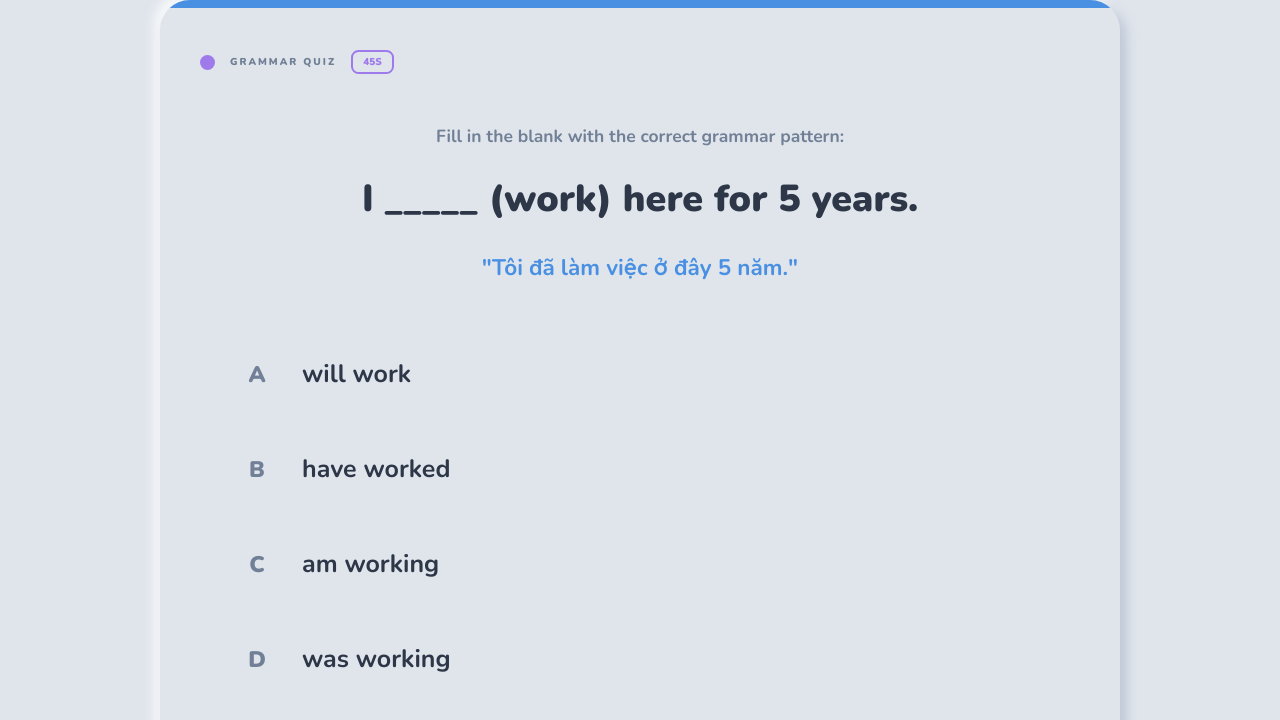
Test: GrammarQuizView › should enable check button after selecting option
This screenshot has width=1280, height=720.
Step 1. Click the text "have worked" → click(376, 470), box [302, 452, 450, 487]
(page scrolled)
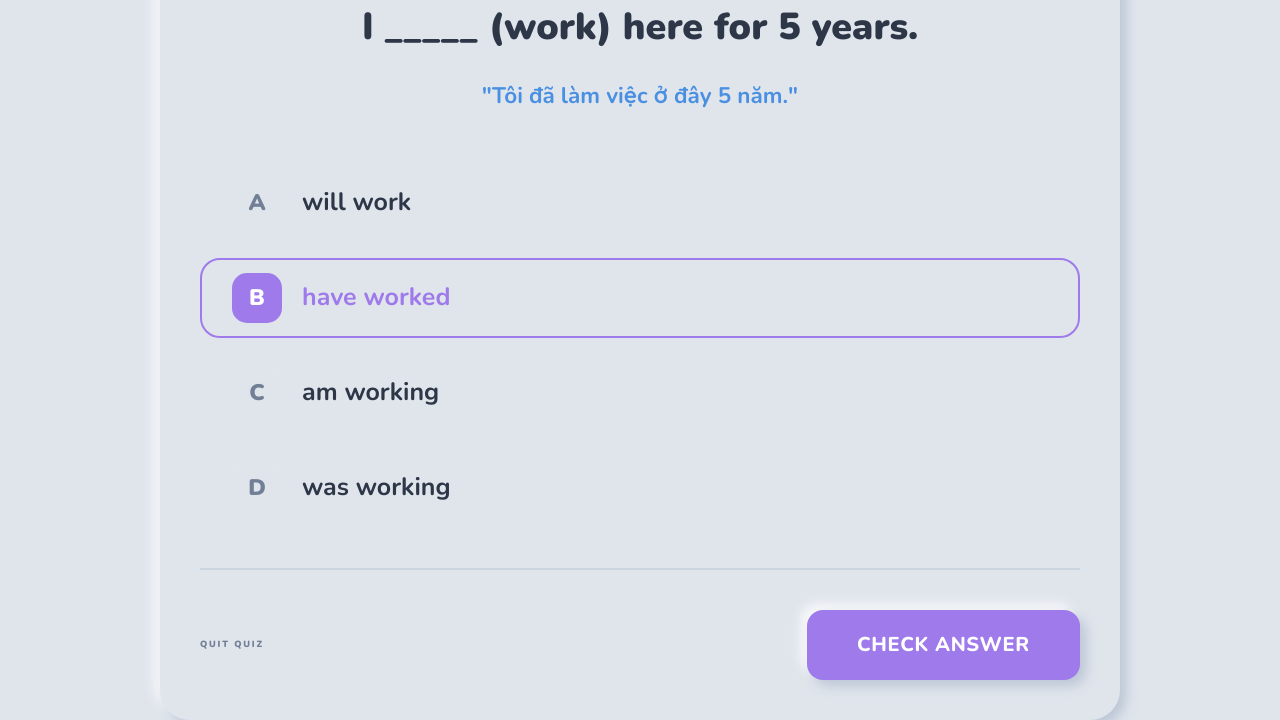
expect the button "Check Answer" is enabled: met, box [807, 610, 1080, 680]
